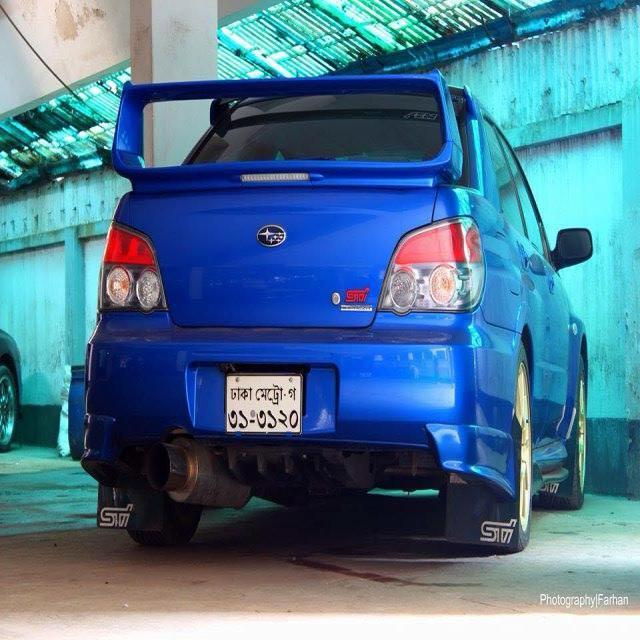numberplate: (223, 371, 303, 435)
